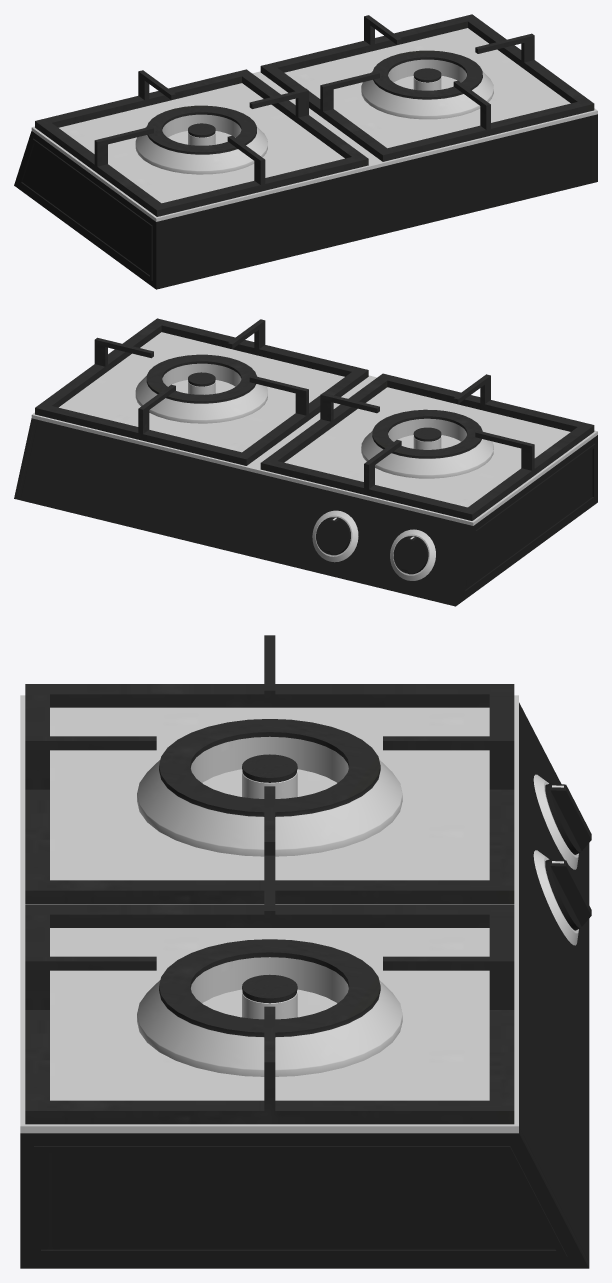
Rendered from GasStove01.glb.
The picture shows the model from 3 angles, top to bottom: view 1: azimuth 30°, elevation 25°; view 2: azimuth 150°, elevation 25°; view 3: azimuth 270°, elevation 25°; orthographic projection. The views are drawn at different scales.
Parts seen in each view (by area): view 1: GasStove01_model; view 2: GasStove01_model, GasStove01_Knob02, GasStove01_Knob01; view 3: GasStove01_model, GasStove01_Knob02, GasStove01_Knob01.
Boxes of the visible parts, bbox=[...] form: GasStove01_model: bbox=[14, 14, 597, 289]; GasStove01_model: bbox=[14, 318, 597, 606]; GasStove01_Knob02: bbox=[393, 536, 428, 574]; GasStove01_Knob01: bbox=[316, 517, 350, 555]; GasStove01_model: bbox=[20, 635, 589, 1268]; GasStove01_Knob02: bbox=[545, 783, 591, 854]; GasStove01_Knob01: bbox=[545, 858, 591, 930].
Size of the model in its own units: 1.3 by 0.2853 by 0.7231.
Materials: 1 (1 with a texture image).
